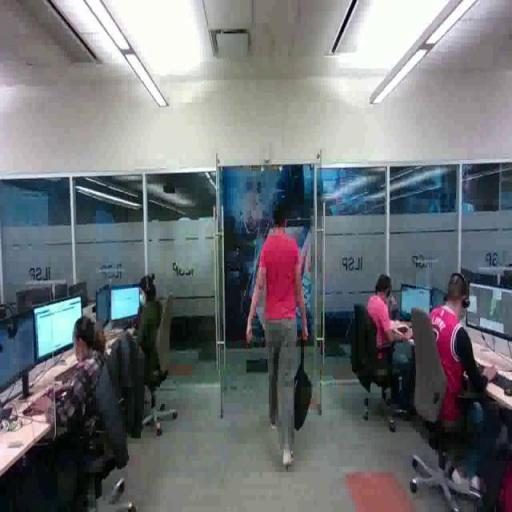person: (247, 206, 309, 468), (432, 274, 501, 491), (47, 318, 107, 511), (368, 276, 416, 415), (138, 276, 163, 387)
